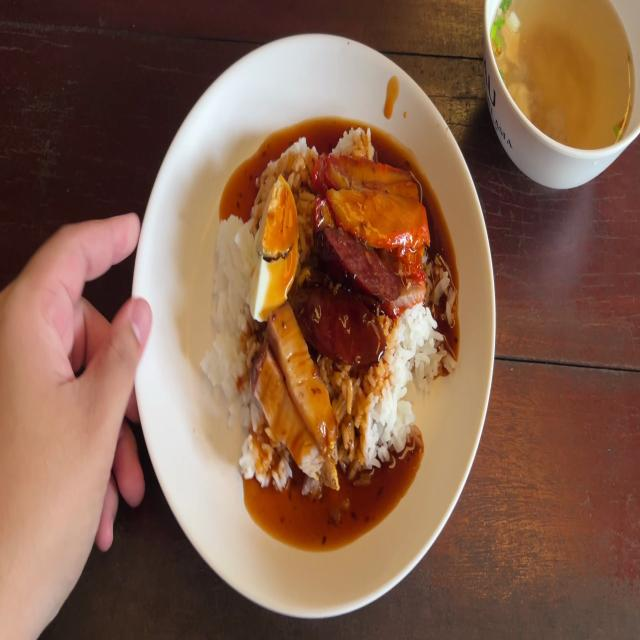01boiled_egg: (254, 180, 290, 311)
01chainese_sausage: (306, 276, 385, 360), (320, 216, 395, 302)
01crispy_pork: (246, 306, 338, 480)
01red_pork: (316, 153, 432, 260), (327, 192, 423, 245), (317, 154, 422, 192)
01red_pork_and_crispy_pork: (203, 124, 439, 486)
01rice: (356, 321, 440, 461), (204, 205, 253, 422)
